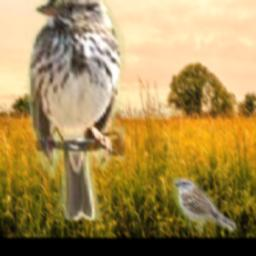Sparrow: (25, 0, 125, 220), (174, 178, 237, 234)
